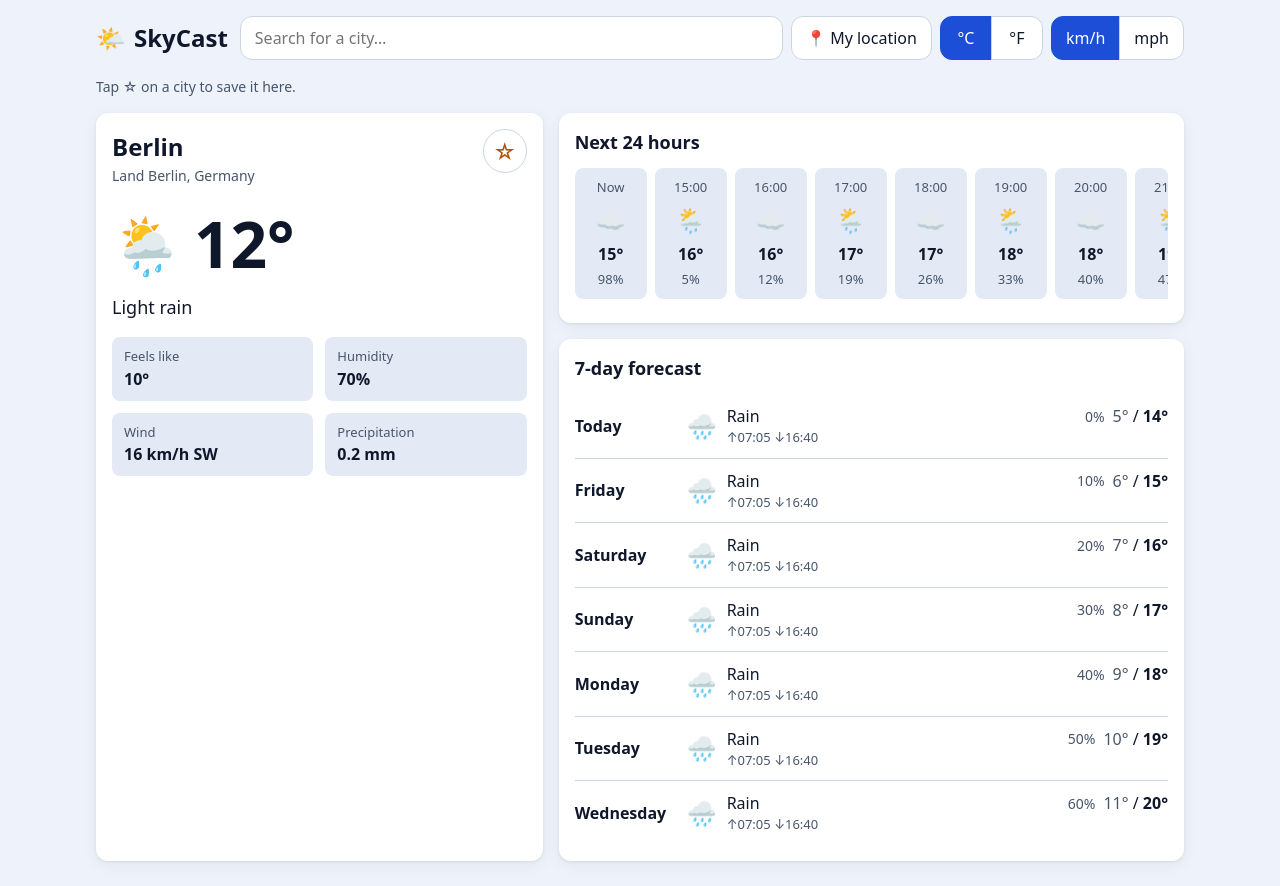
App › FR-7 toggles units without refetching and persists the choice
The image size is (1280, 886).
Expected: the text "12°" is shown, x1=194 y1=212 x2=294 y2=276
Step 1. Click the button "°F" → (1017, 38), box x1=991 y1=16 x2=1043 y2=60
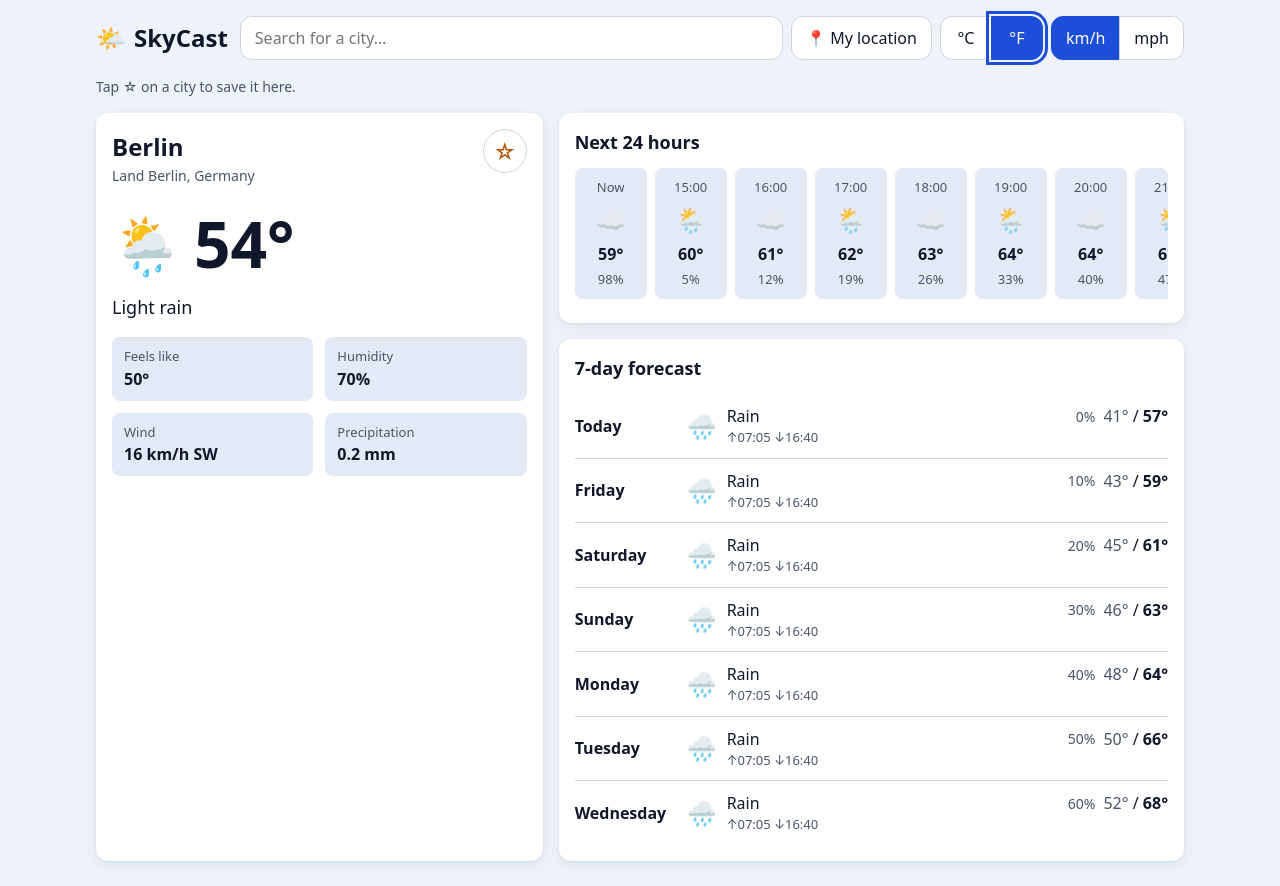
Step 2. Click the button "mph" → (1152, 38), box x1=1119 y1=16 x2=1184 y2=60
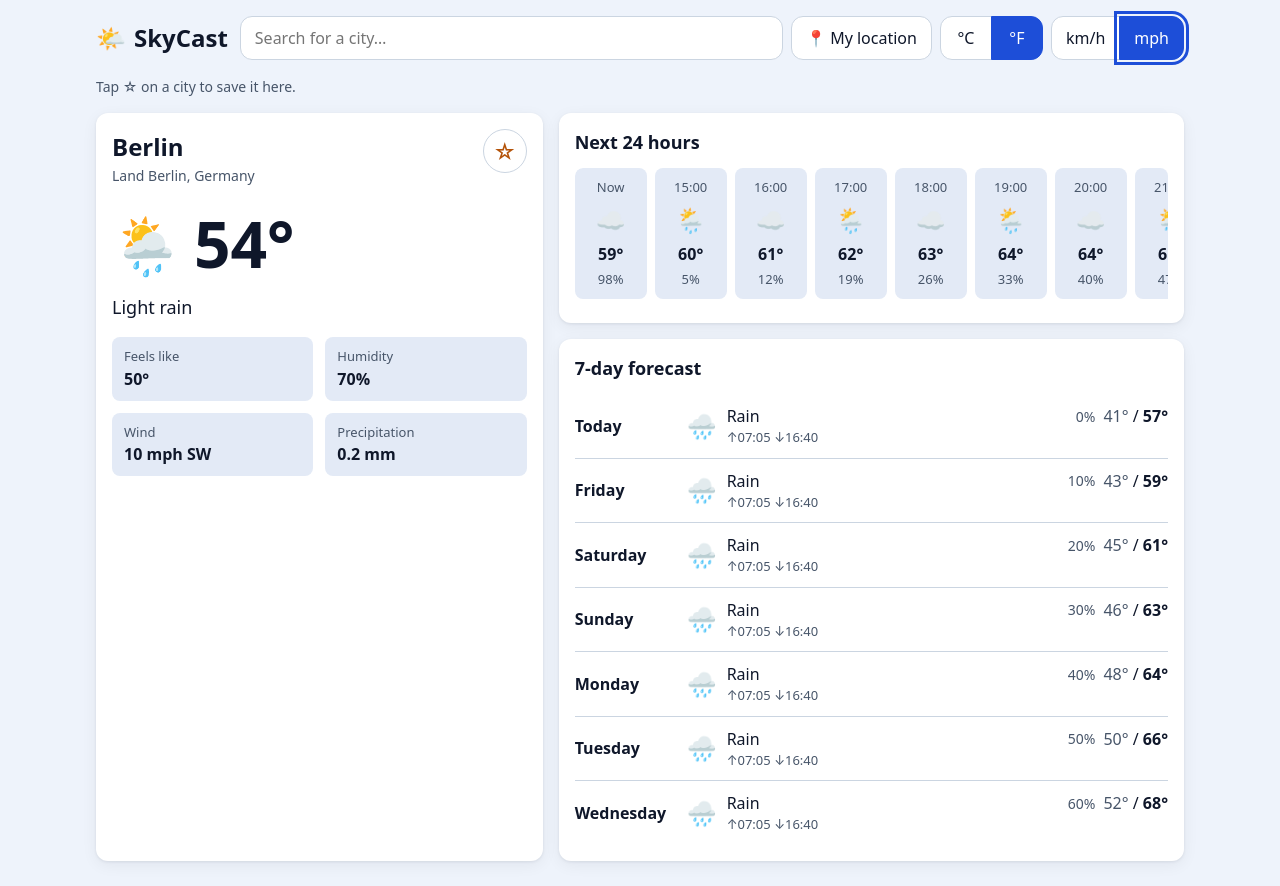
Now the text with test id "current-temp" reads "54°", box x1=194 y1=200 x2=294 y2=287
Now the text with test id "current-wind" reads "10 mph SW", box x1=124 y1=443 x2=211 y2=465
